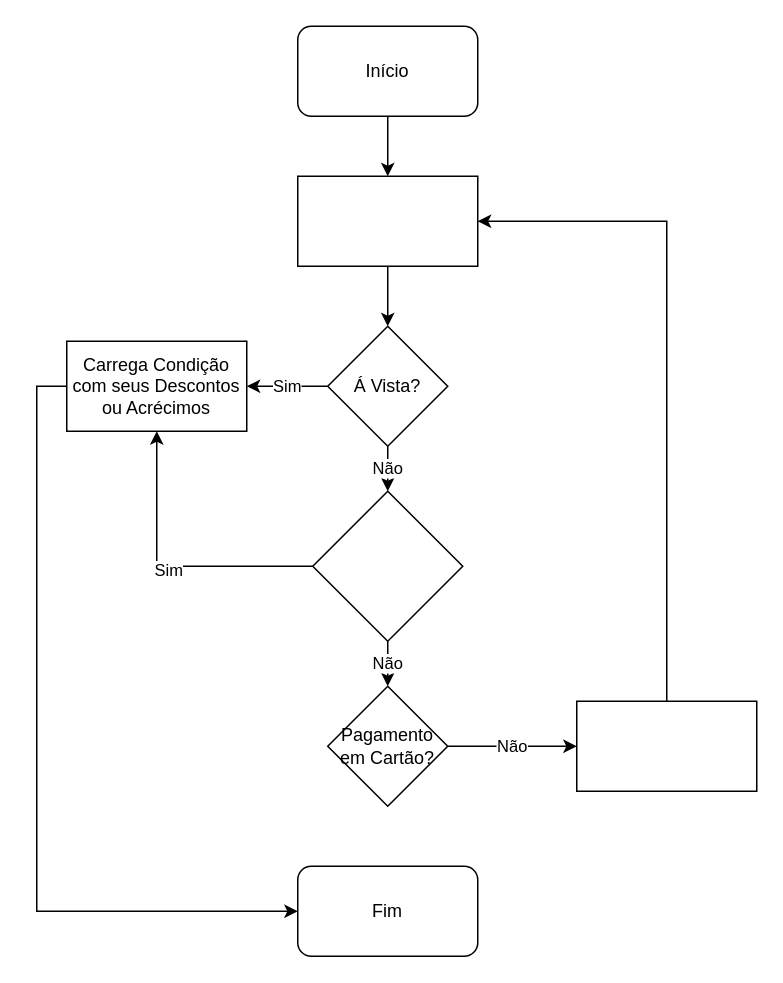
Image size: 783x983. Some labels were removed from this diagram. Each missing label, with the centre of its shape:
"Bloqueio de venda a prazo para cliente sem identificação" belongs at (666,745).
"Cliente identificado?" belongs at (387,565).
"Selecionar Condição de pagamento" belongs at (387,220).
